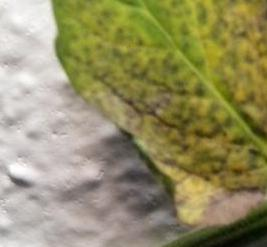Tomato leaf bacterial spot: (44, 1, 267, 216)
